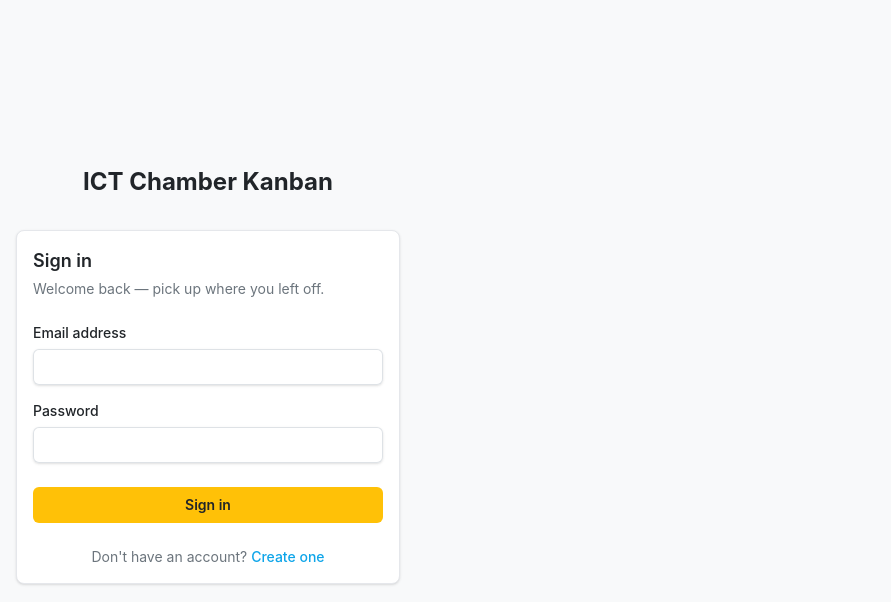
LoginPage › shows an error toast on invalid credentials and stays on the page
Type "nobody@example.com" into the field labelled "Email address" at (208, 367), box [33, 349, 383, 385]
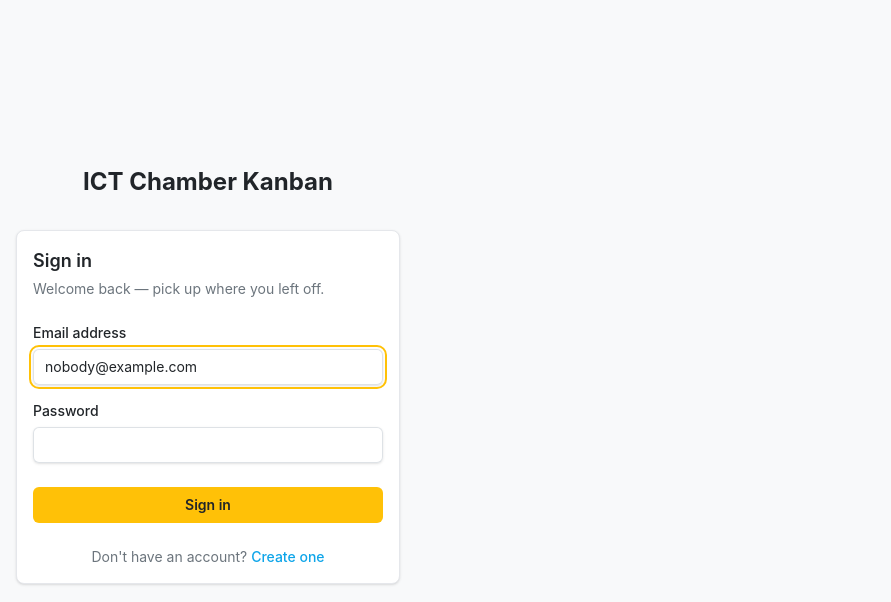
Type "wrong-password" into the password field labelled "Password" at (208, 445), box [33, 427, 383, 463]
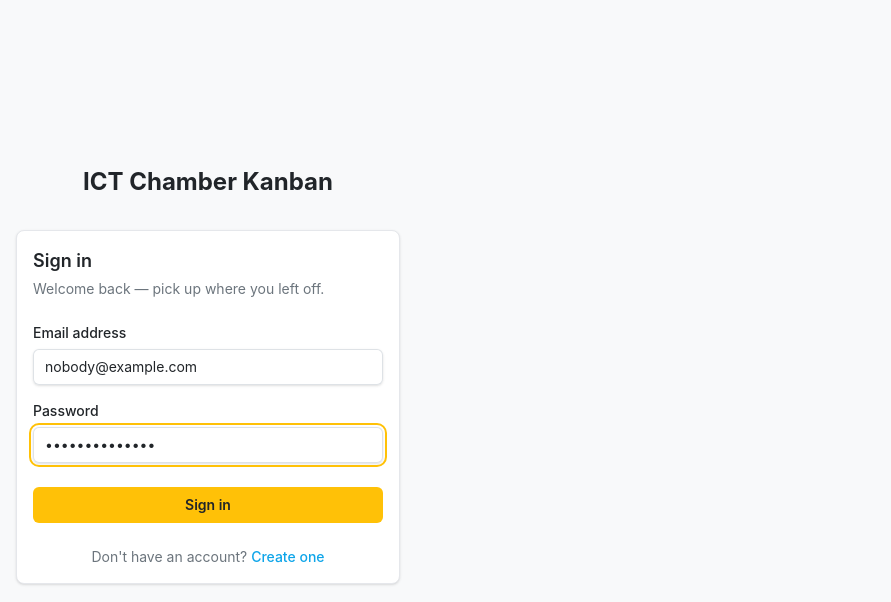
Click the button "Sign in" at (208, 505), box [33, 487, 383, 523]
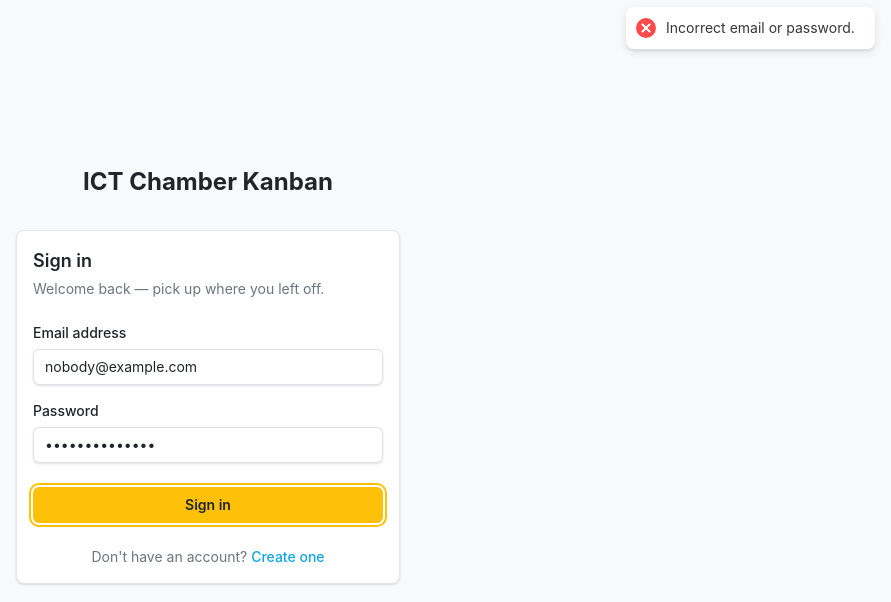
Result: the text "Incorrect email or password." is shown at [666, 19, 855, 37]
